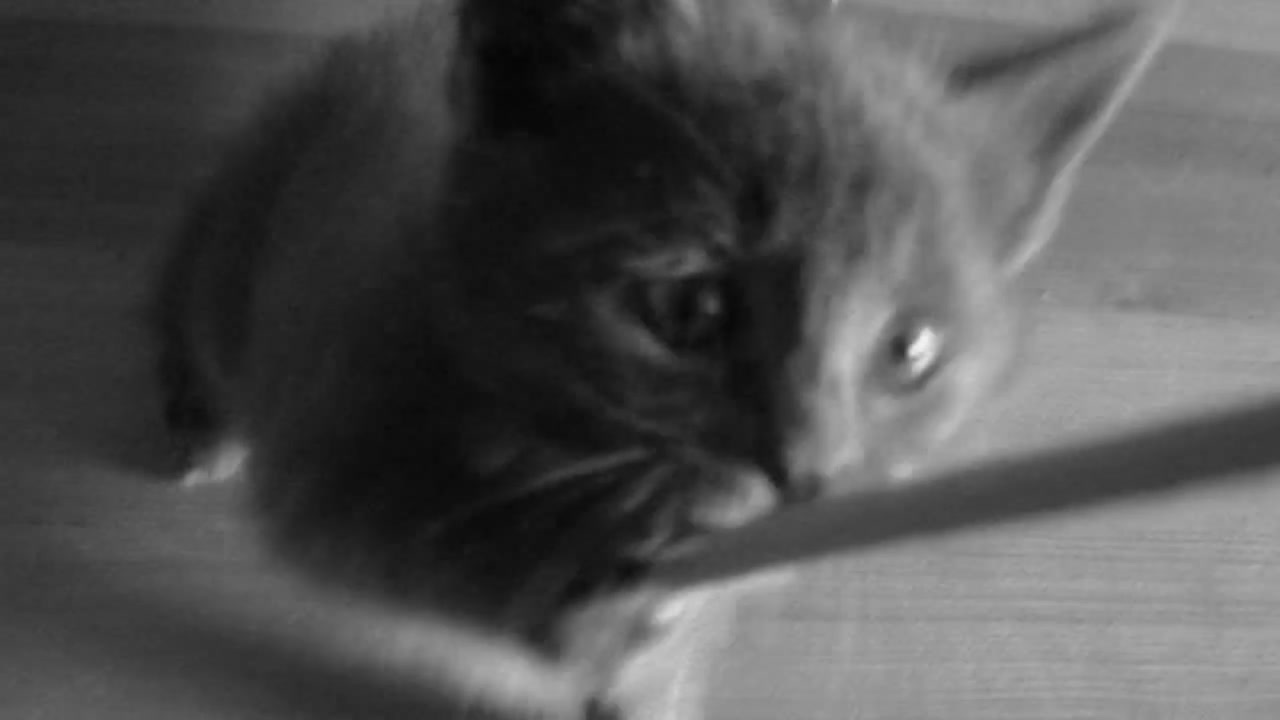cat: (141, 1, 1188, 614)
